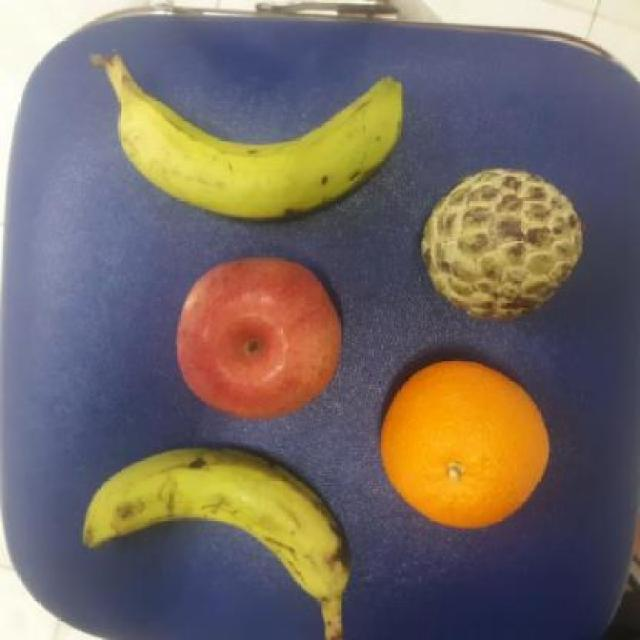apple: (172, 251, 346, 418)
banana: (112, 69, 403, 225), (80, 442, 352, 605)
oren: (372, 360, 553, 529)
sugar apple: (413, 164, 592, 324)
